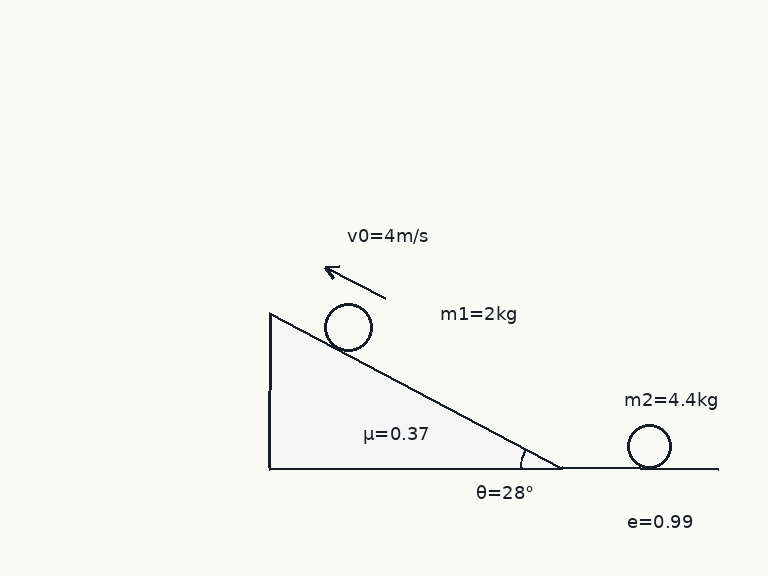ball: (322, 301, 374, 353), (625, 422, 673, 470)
ramp: (268, 311, 563, 470)
